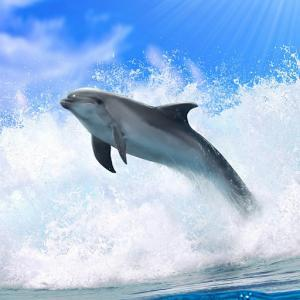fish: (56, 85, 265, 223)
